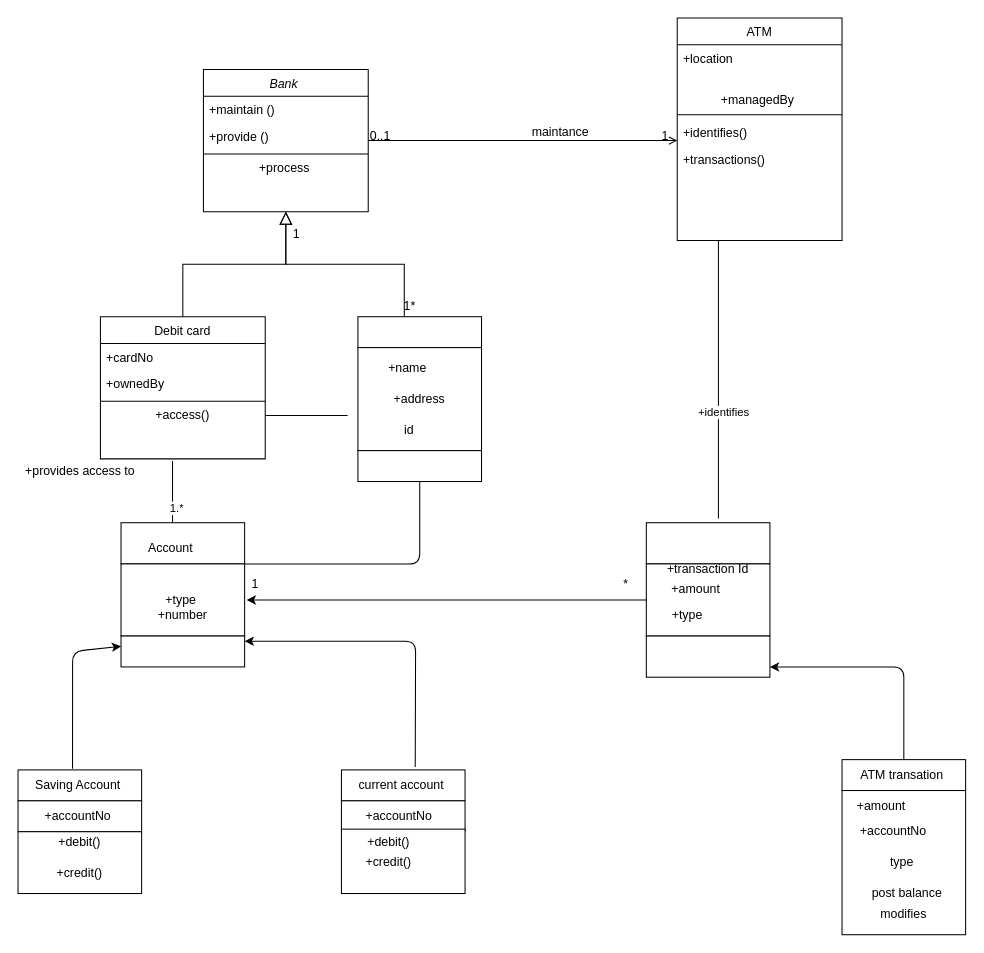
Image size: 984x953. Some labels were removed from this diagram. Each missing label, with the centre of its shape:
+checkBalance (): [182,651]
+owns (): [419,466]
+update (): [707,656]
ATM transaction: [707,543]
customer: [419,332]
